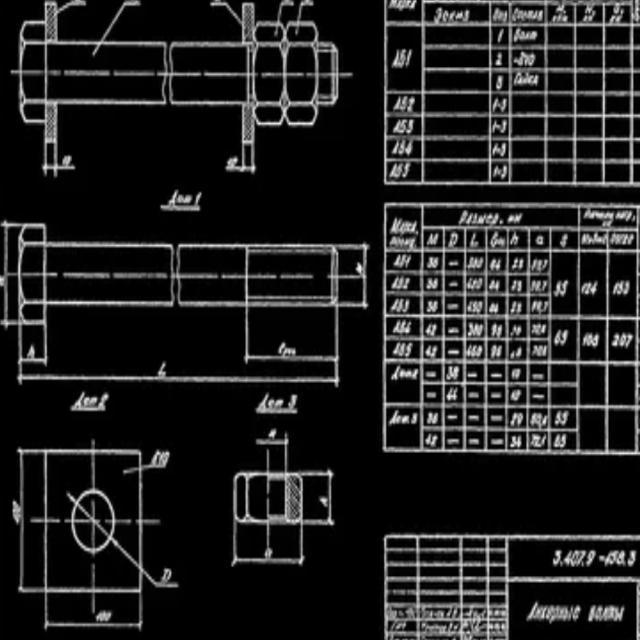marking_line: (15, 365, 349, 386), (243, 308, 343, 365), (43, 592, 146, 635), (230, 525, 304, 568), (90, 2, 142, 54), (339, 243, 370, 313), (304, 470, 334, 527), (144, 549, 180, 593), (257, 436, 297, 473), (42, 143, 74, 179), (223, 144, 259, 175), (210, 1, 243, 27), (273, 0, 295, 34), (294, 2, 312, 34), (161, 203, 204, 214), (125, 466, 165, 476)
numeric: (26, 344, 40, 362), (160, 566, 172, 584), (287, 392, 298, 410)
